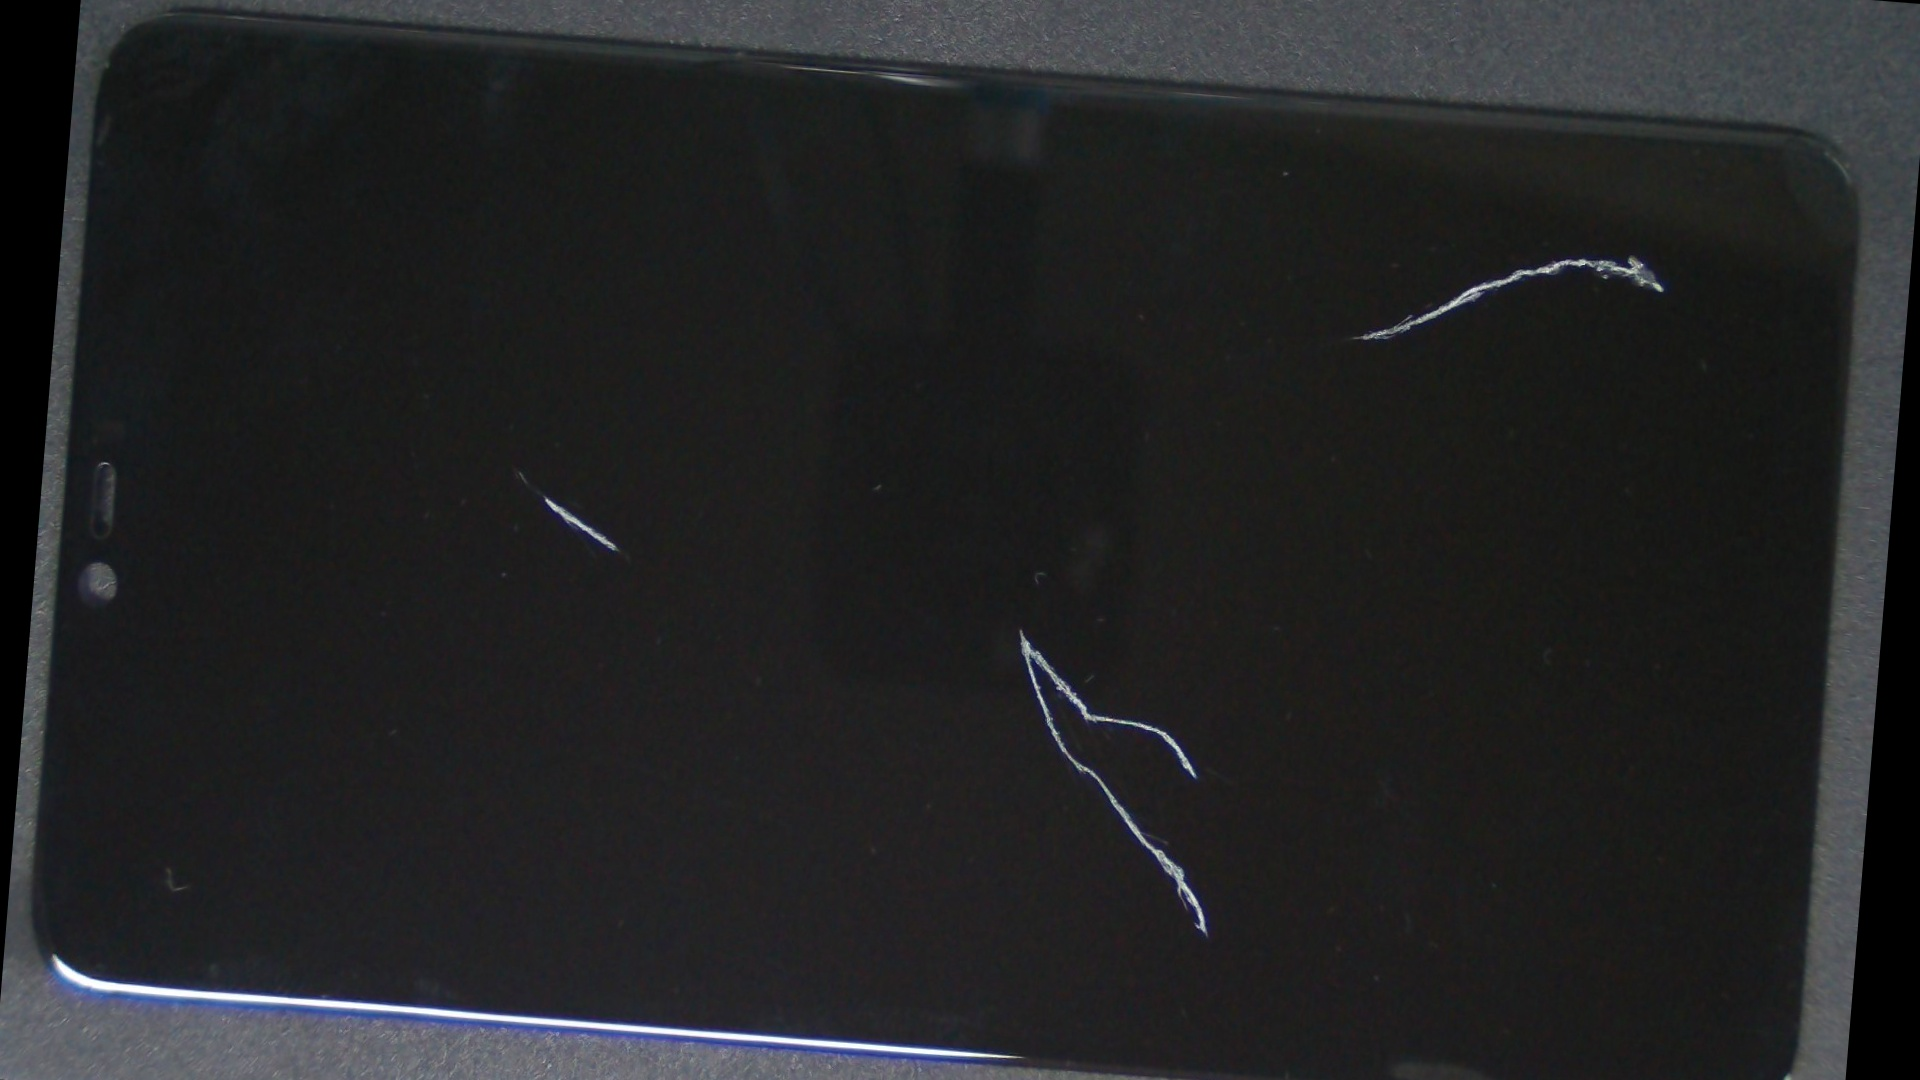oil: (502, 241, 1542, 1011), (839, 55, 1920, 413), (269, 175, 814, 814), (258, 161, 778, 778)
